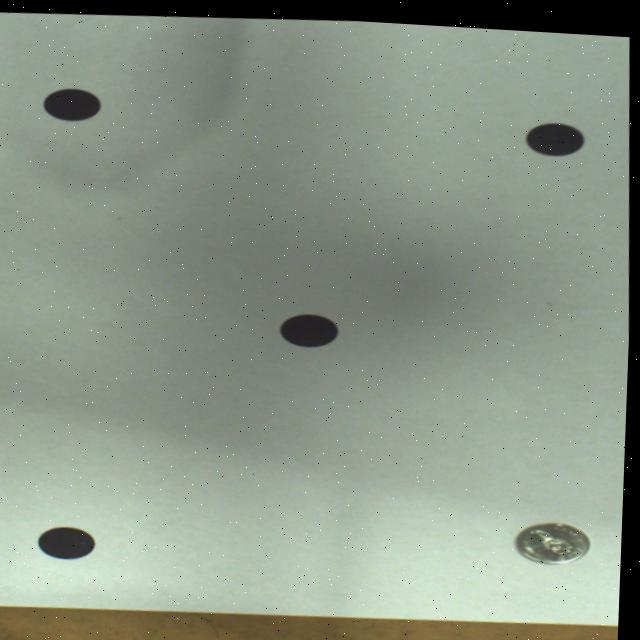space: (281, 309, 341, 341), (44, 86, 101, 119), (41, 525, 99, 557), (526, 115, 583, 147)
tail1bath: (519, 515, 593, 555)
